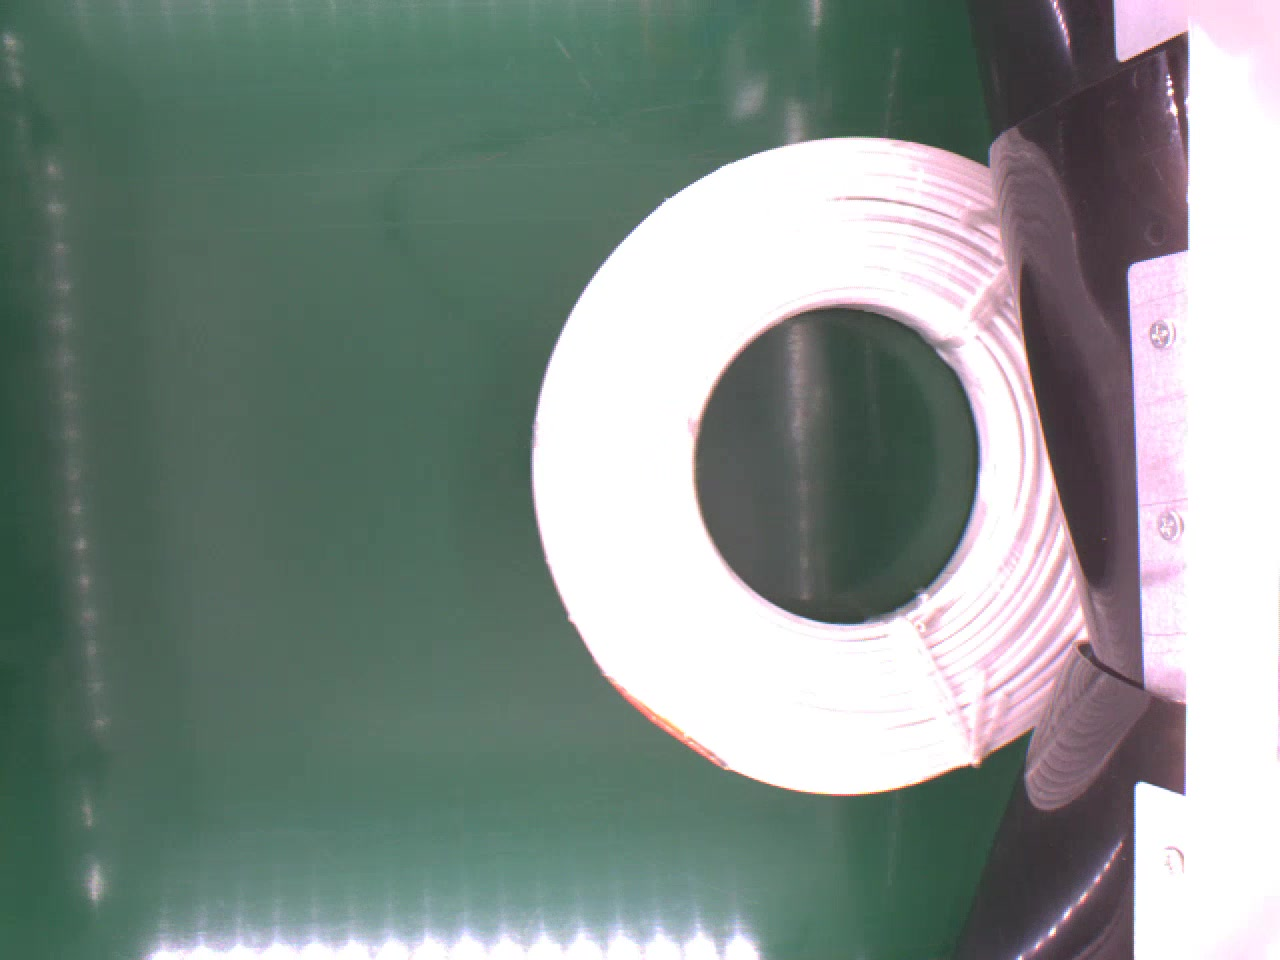white: (530, 132, 1090, 798)
